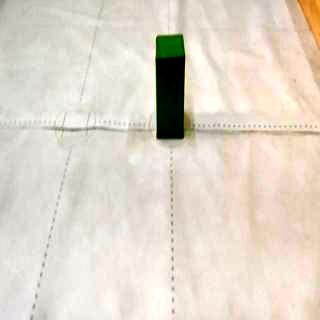greenbox: (156, 34, 184, 140)
